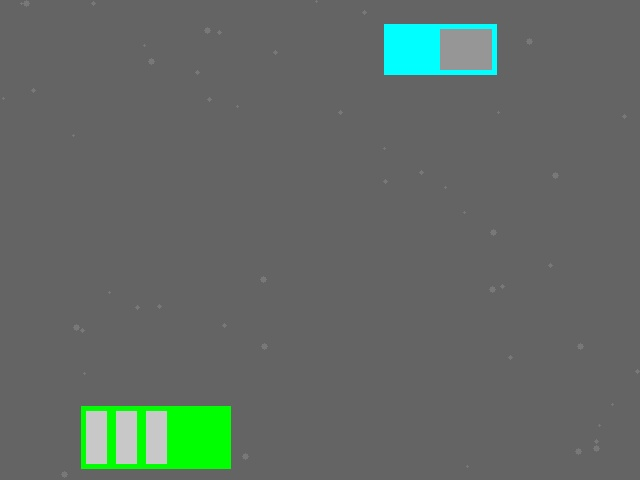bus: (81, 406, 230, 468)
truck: (384, 24, 496, 74)
